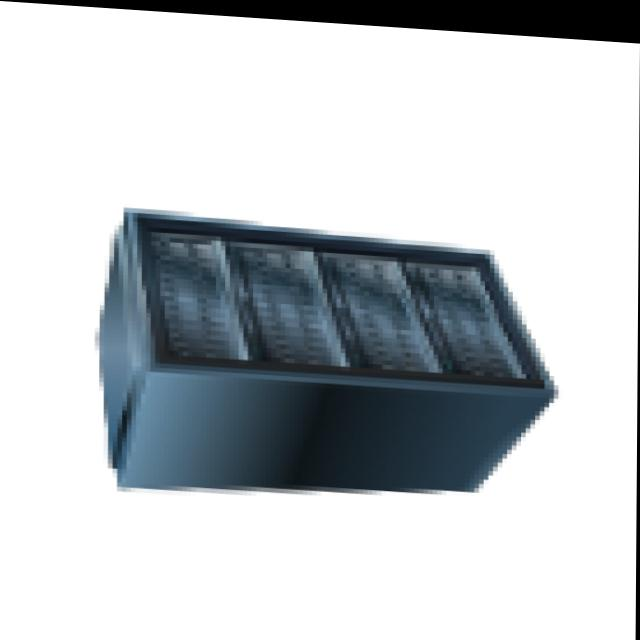Server: (71, 180, 584, 543)
